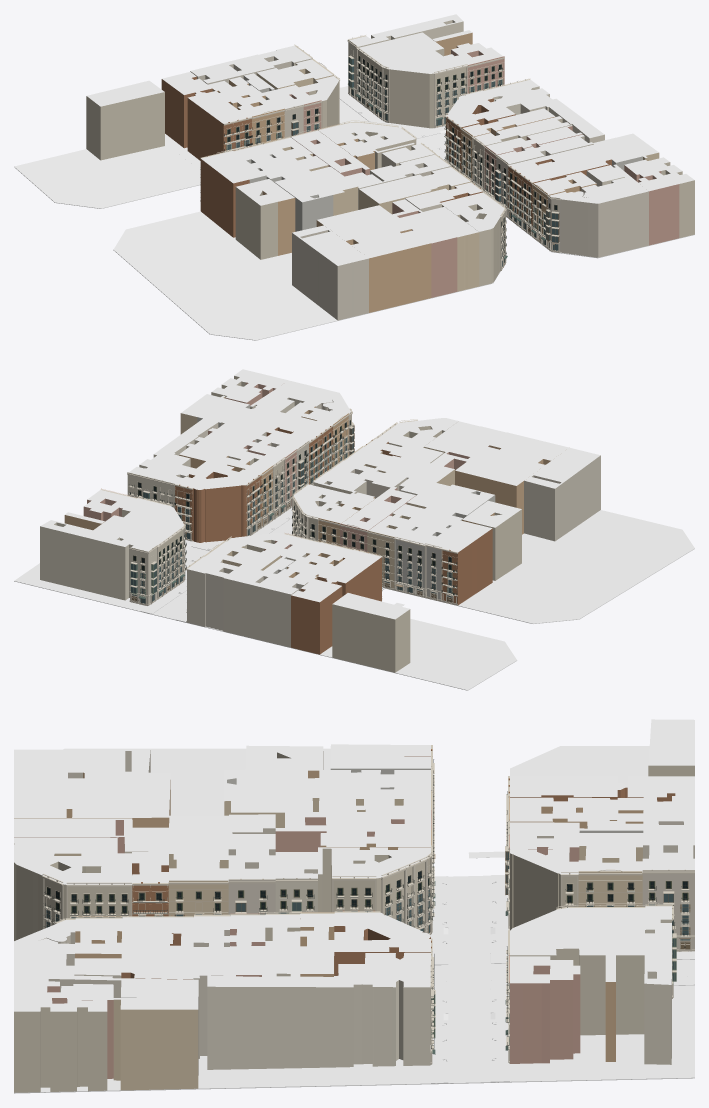
3 renders of one model, top to bottom at view 1: azimuth 30°, elevation 25°; view 2: azimuth 150°, elevation 25°; view 3: azimuth 270°, elevation 25°, orthographic. The views are drawn at different scales.
Parts seen in each view (by area): view 1: BCN_MC4_terreno, BCN_MC5_terreno, BCNgen_L-MD4-001_envolvente, BCNgen_L-MC5-011_envolvente, BCNgen_L-MC4-002_envolvente, BCNgen_L-MC4-005_envolvente, BCNgen_L-MC4-005_cubierta, BCNgen_L-MC5-006_envolvente, BCNgen_L-MD5-002_cubierta, BCNgen_L-MD5-002_envolvente, BCNgen_L-MC4-012_envolvente, BCNgen_L-MC4-016_cubierta (+61 smaller); view 2: BCN_MC4_terreno, BCNgen_L-MC5-009_envolvente, BCN_MC5_terreno, BCNgen_L-MD5-004_envolvente, BCNgen_L-MC5-011_envolvente, BCNgen_L-MC4-002_envolvente, BCNgen_L-MC5-006_envolvente, BCNgen_L-MC4-005_cubierta, BCNgen_L-MD4-014_envolvente, BCNgen_L-MD5-002_cubierta, BCNgen_L-MC4-016_cubierta, BCNgen_L-MD4-006_cubierta (+53 smaller); view 3: BCNgen_L-MD4-013_envolvente, BCN_C07_viario_BCN-PG-33, BCNgen_L-MD4-003_envolvente, BCNgen_L-MC4-005_cubierta, BCNgen_L-MD4-008_envolvente, BCN_MD5_terreno, BCNgen_L-MD5-001_envolvente, BCNgen_L-MD5-002_cubierta, BCN_MD4_terreno, BCN_MC4_terreno, BCNgen_L-MD5-002_envolvente, BCNgen_L-MC4-016_cubierta (+68 smaller).
Part boxes in pixels (x1,y1,x2,y2): BCN_MC4_terreno: (113, 211, 500, 340); BCN_MC5_terreno: (14, 134, 200, 208); BCNgen_L-MD4-001_envolvente: (560, 165, 648, 257); BCNgen_L-MC5-011_envolvente: (86, 92, 164, 160); BCNgen_L-MC4-002_envolvente: (292, 230, 368, 320); BCNgen_L-MC4-005_envolvente: (316, 220, 431, 312); BCNgen_L-MC4-005_cubierta: (317, 205, 430, 258); BCNgen_L-MC5-006_envolvente: (161, 76, 230, 160); BCNgen_L-MD5-002_cubierta: (358, 32, 466, 73); BCNgen_L-MD5-002_envolvente: (389, 48, 444, 128); BCNgen_L-MC4-012_envolvente: (235, 187, 277, 259); BCNgen_L-MC4-016_cubierta: (234, 144, 332, 202); BCN_MC4_terreno: (386, 510, 694, 623); BCNgen_L-MC5-009_envolvente: (187, 561, 308, 647); BCN_MC5_terreno: (187, 619, 517, 690); BCNgen_L-MD5-004_envolvente: (40, 522, 148, 605); BCNgen_L-MC5-011_envolvente: (332, 604, 410, 672); BCNgen_L-MC4-002_envolvente: (524, 455, 600, 541); BCNgen_L-MC5-006_envolvente: (291, 557, 381, 654); BCNgen_L-MC4-005_cubierta: (455, 432, 568, 485); BCNgen_L-MD4-014_envolvente: (189, 467, 250, 542); BCNgen_L-MD5-002_cubierta: (93, 498, 183, 545); BCNgen_L-MC4-016_cubierta: (395, 487, 494, 545); BCNgen_L-MD4-006_cubierta: (225, 406, 331, 441); BCNgen_L-MD4-013_envolvente: (207, 954, 430, 1069); BCN_C07_viario_BCN-PG-33: (431, 875, 509, 1083); BCNgen_L-MD4-003_envolvente: (14, 1007, 107, 1092); BCNgen_L-MC4-005_cubierta: (14, 772, 170, 817); BCNgen_L-MD4-008_envolvente: (113, 999, 198, 1090); BCN_MD5_terreno: (510, 985, 694, 1082); BCNgen_L-MD5-001_envolvente: (510, 965, 580, 1063); BCNgen_L-MD5-002_cubierta: (510, 908, 645, 955); BCN_MD4_terreno: (14, 1045, 430, 1093); BCN_MC4_terreno: (63, 748, 330, 815); BCNgen_L-MD5-002_envolvente: (510, 948, 644, 1035); BCNgen_L-MC4-016_cubierta: (224, 770, 430, 792).
Size of the model in its own units: 210 by 28.26 by 177.
26 materials, 1 textured.
